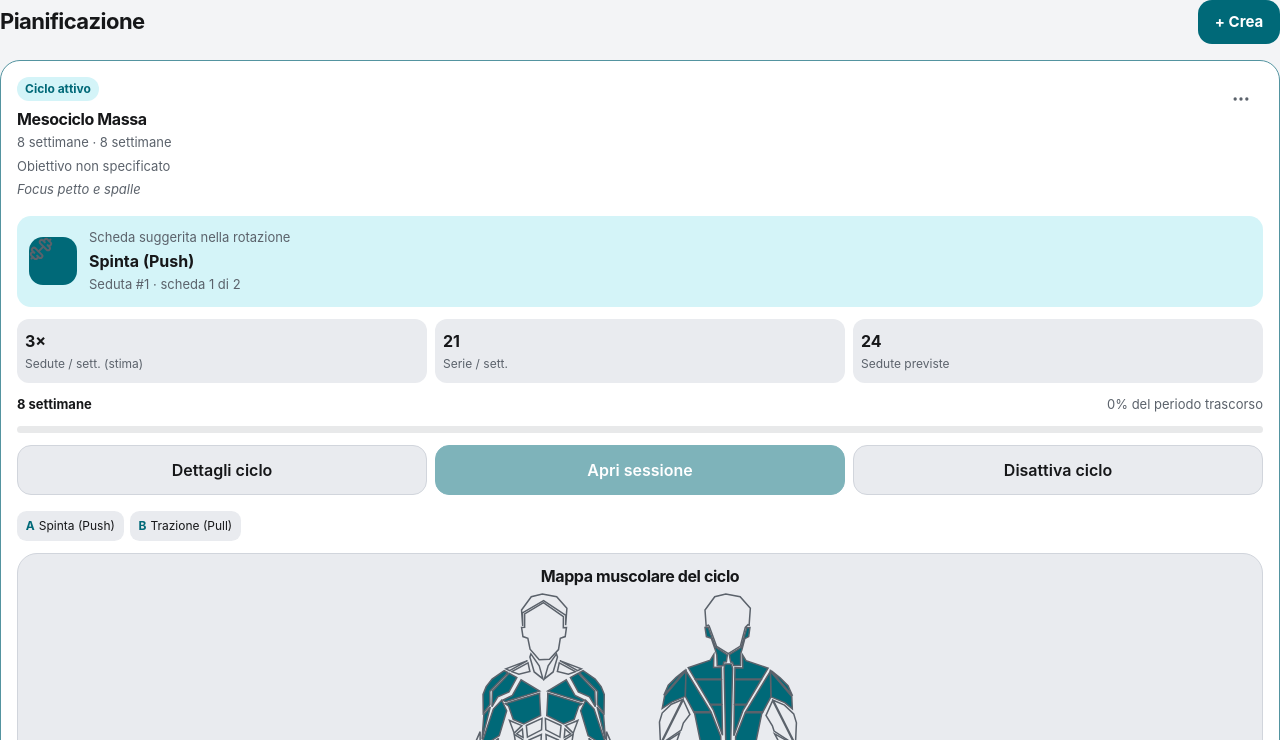
Test case: Training Planning & Volume Calculations › TrainingPlanning UI Component › exposes accessible intent/focus controls without forcing muscle priorities
Click the button with aria-label "Crea ciclo": (1239, 22) [1198,0,1279,44]
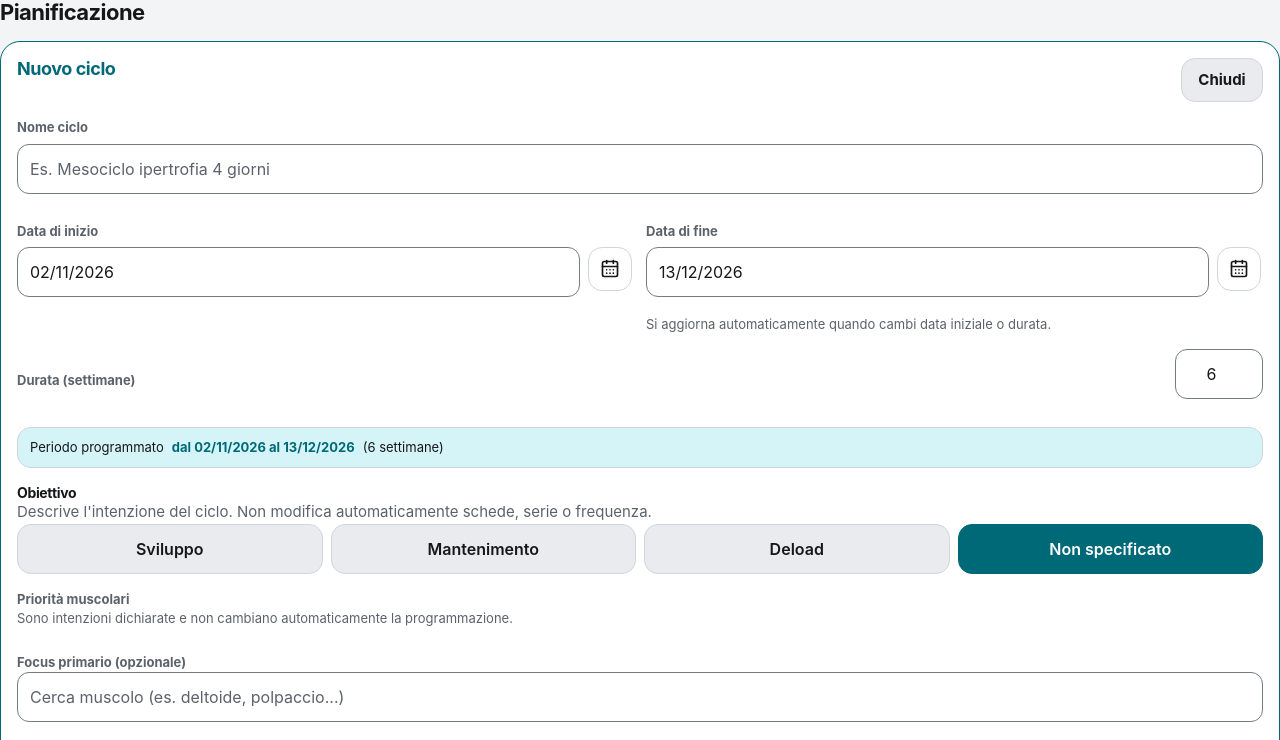
Now the element named "Intento del ciclo" is shown, box [17,524,1263,574]
Now the dropdown named "Cerca focus primario" is enabled
Focus the dropdown named "Cerca focus primario": (640, 697) [17,672,1263,722]
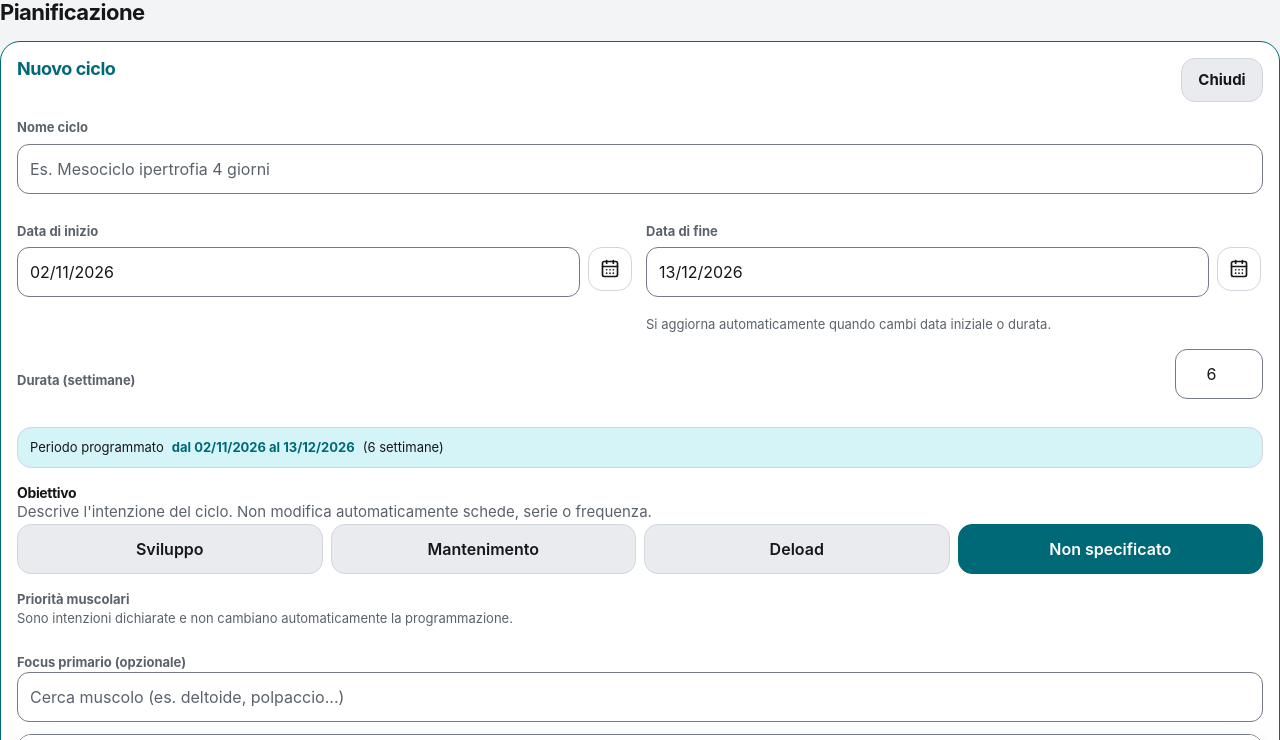
Click the button "Mantenimento": (483, 549) [330,524,636,574]
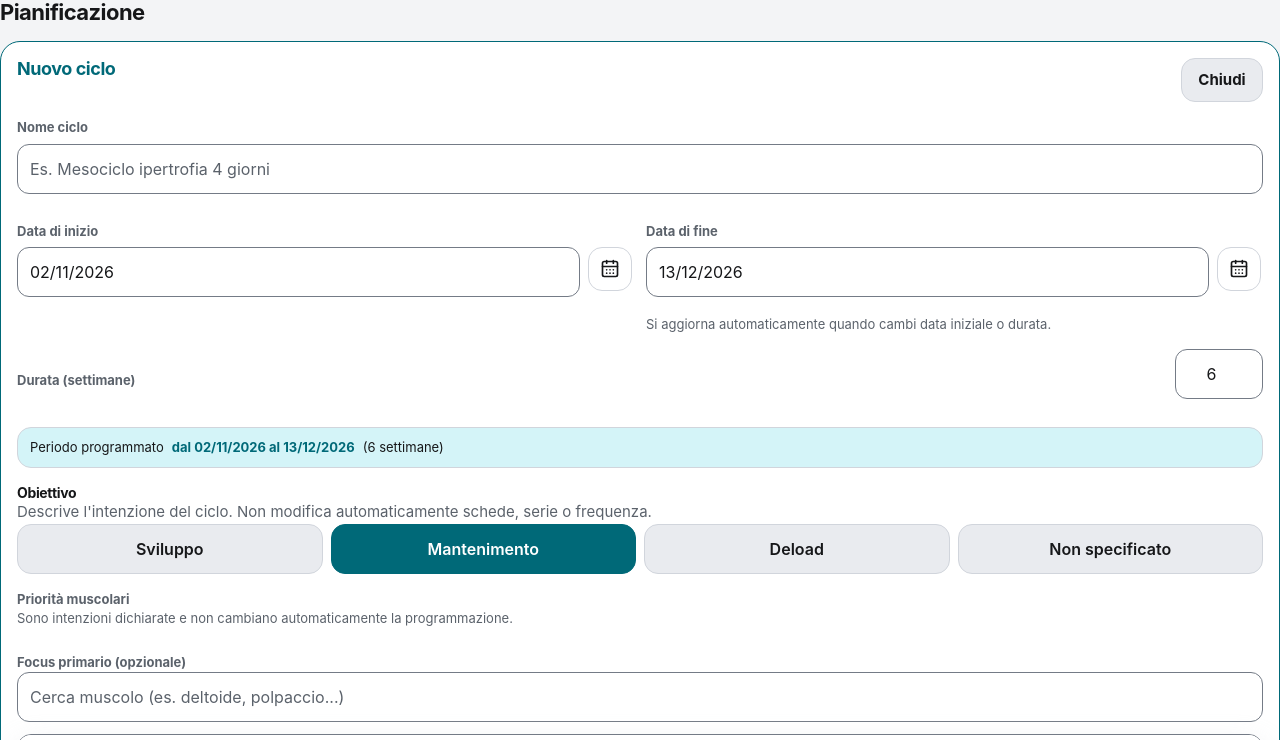
Click the button "Deload": (797, 549) [644,524,950,574]
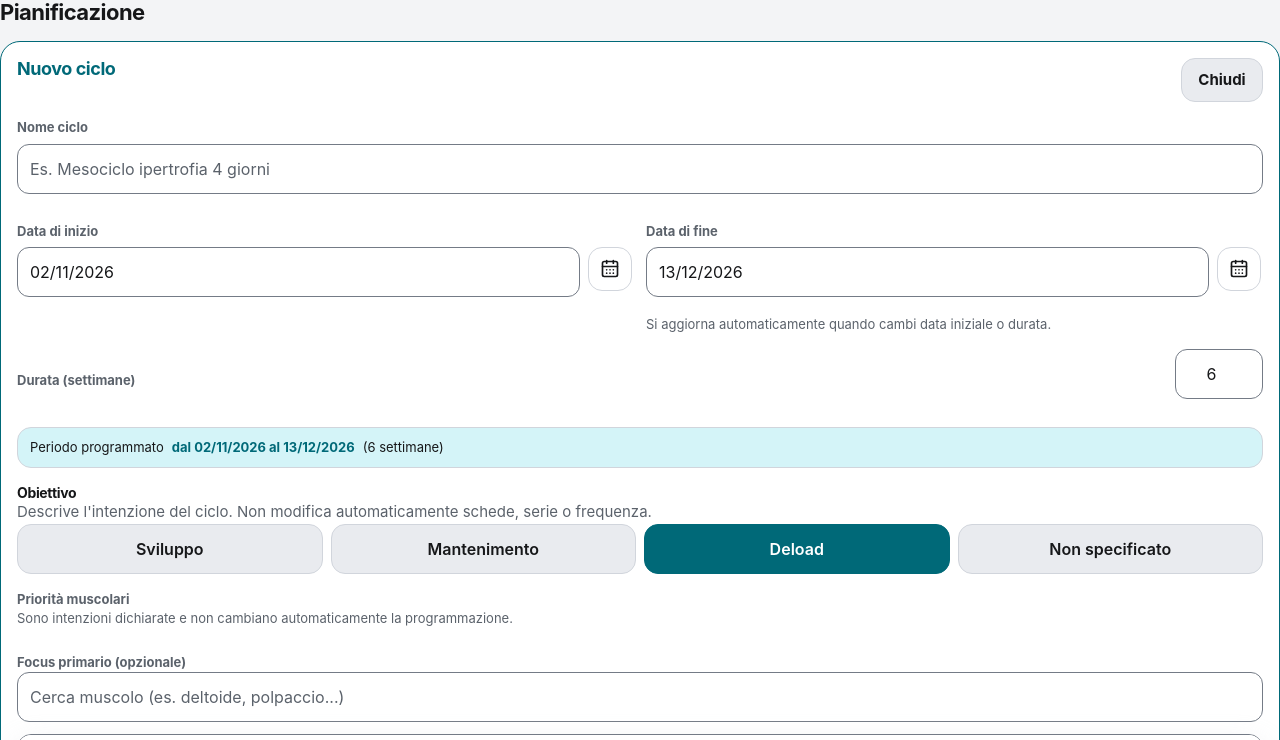
Click the button "Sviluppo": (170, 549) [17,524,322,574]
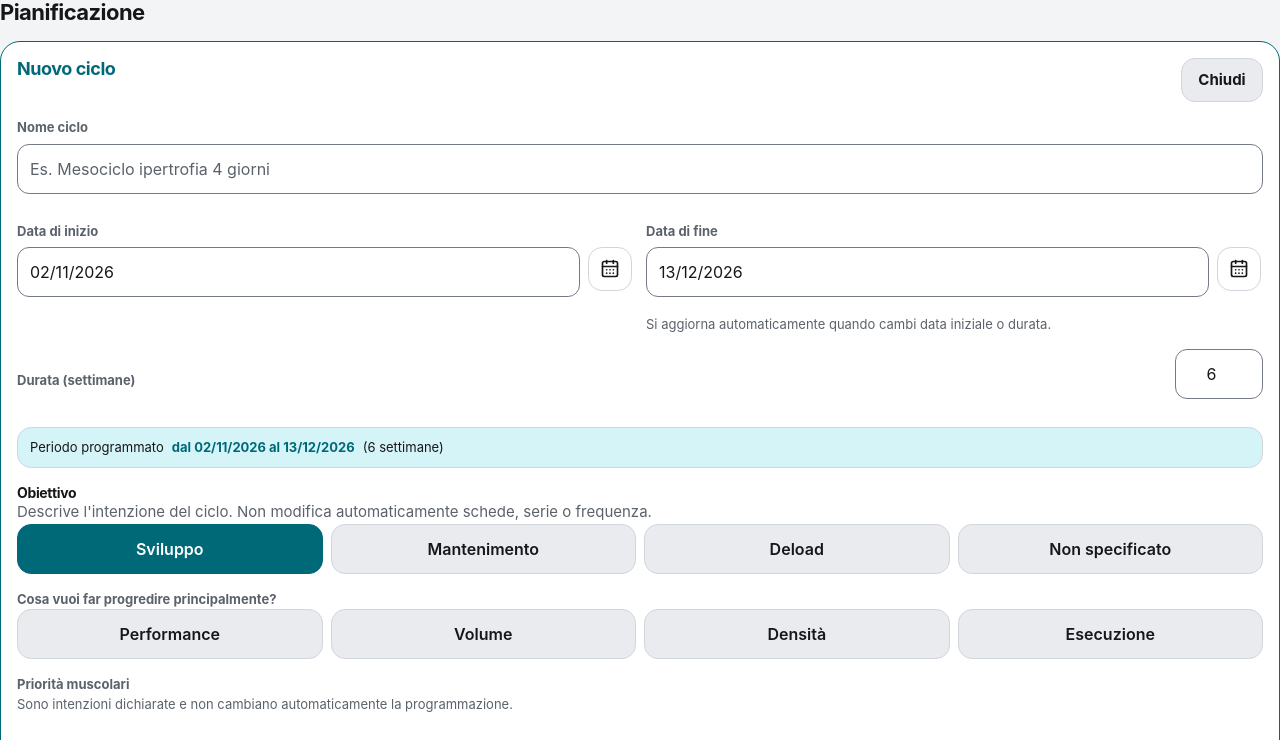
Now the element named "Focus principale della progressione" is shown, box [17,609,1263,659]
